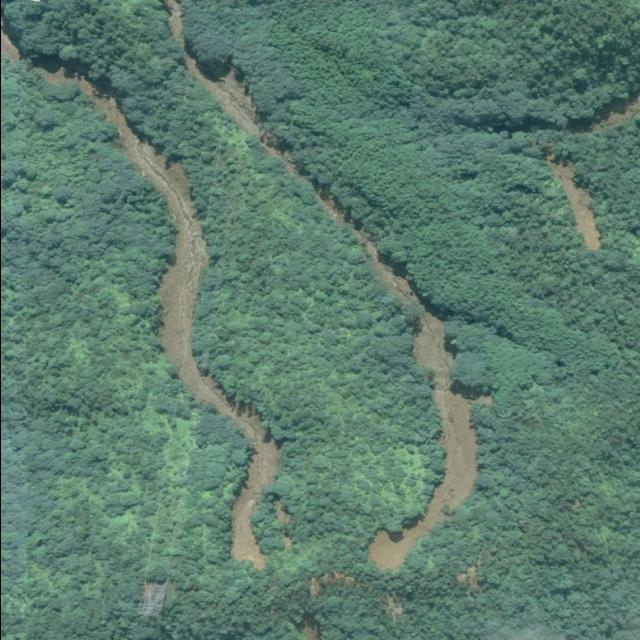landslide: (42, 69, 279, 571), (352, 229, 476, 571), (183, 52, 280, 157), (547, 156, 600, 249)
